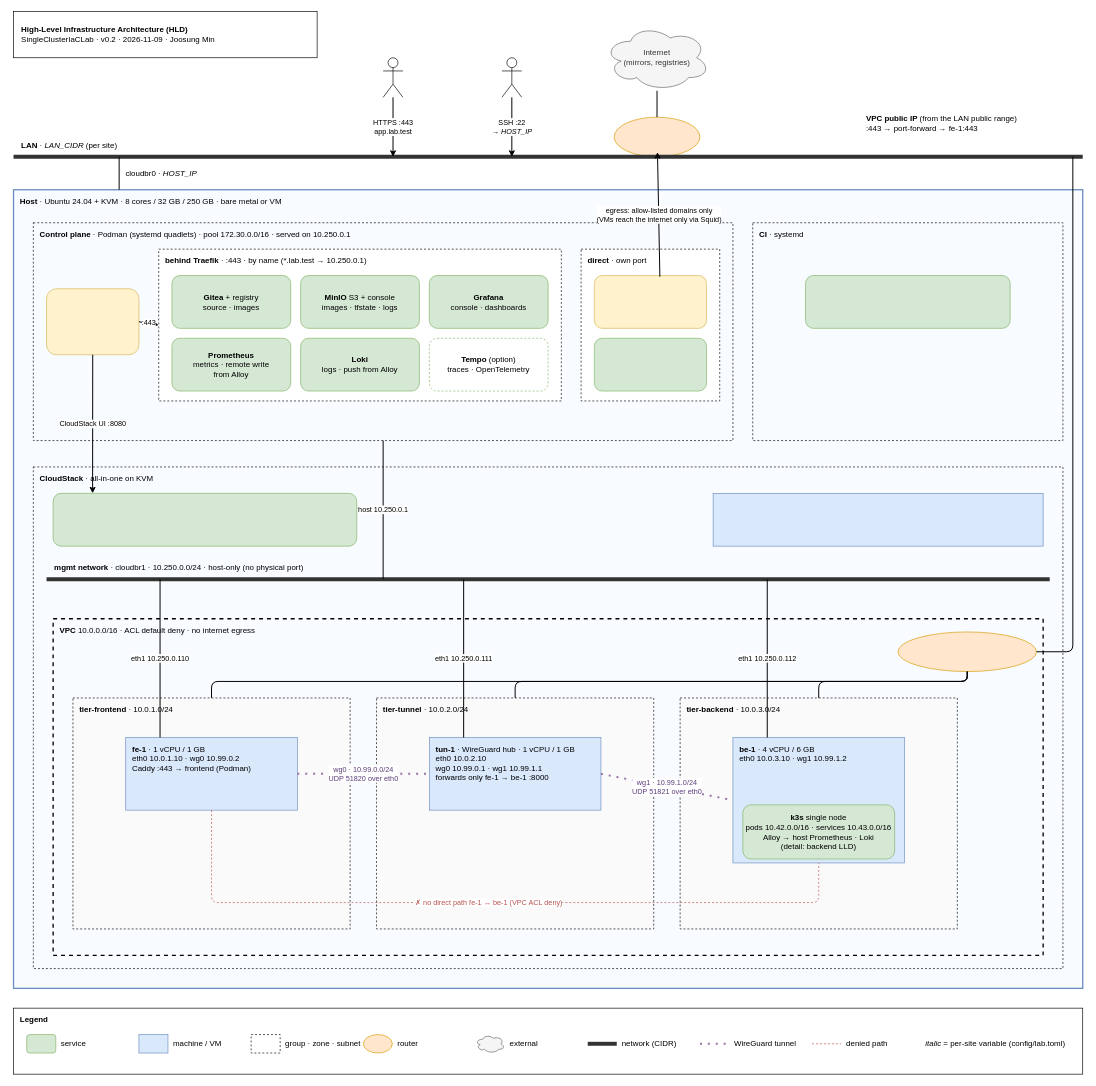
Some shapes in this 1096 by 1086 pixel diagram are drawn without their labels. Here are the shapes that lost their labels. From the top down, the centre of each, then its label:
the point at 392,77: Admin
the point at 511,77: Remote Admin
the point at 656,136: LAN gateway LAN_GATEWAY
the point at 92,321: Traefik gateway :443 host-only · TLS :80 images only
the point at 650,301: Squid :3128 egress proxy (domain allow-list)
the point at 907,301: act_runner pipeline jobs (lab-runner) Terraform · Ansible · Flux delivery
the point at 650,364: Vault :8200 · own TLS
the point at 204,519: Management server (UI / API) MySQL 127.0.0.1 · NFS storage · KVM agent
the point at 877,519: System VMs SSVM (templates) · CPVM (console) · mgmt-network router
the point at 967,651: VPC virtual router ACL · source NAT · port-forward
